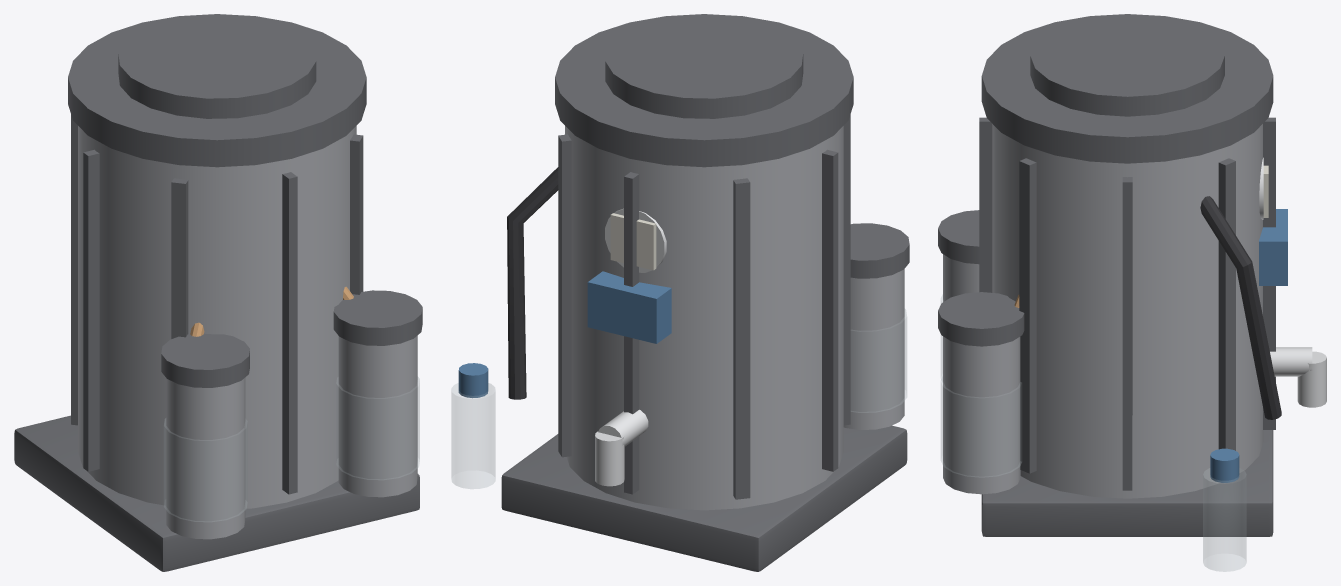
Rendered from DD_purifier.fbx.
3 renders of one model, left to right at view 1: azimuth 30°, elevation 25°; view 2: azimuth 150°, elevation 25°; view 3: azimuth 270°, elevation 25°, orthographic. The views are drawn at different scales.
Visible parts, largest first — view 1: DD_purifier; view 2: DD_purifier; view 3: DD_purifier.
Boxes of the visible parts, x1,y1,x2,y2 form: DD_purifier: (14, 14, 422, 571); DD_purifier: (451, 14, 909, 571); DD_purifier: (938, 14, 1326, 571).
Size of the model in its own units: 0.77 by 0.955 by 0.8.
